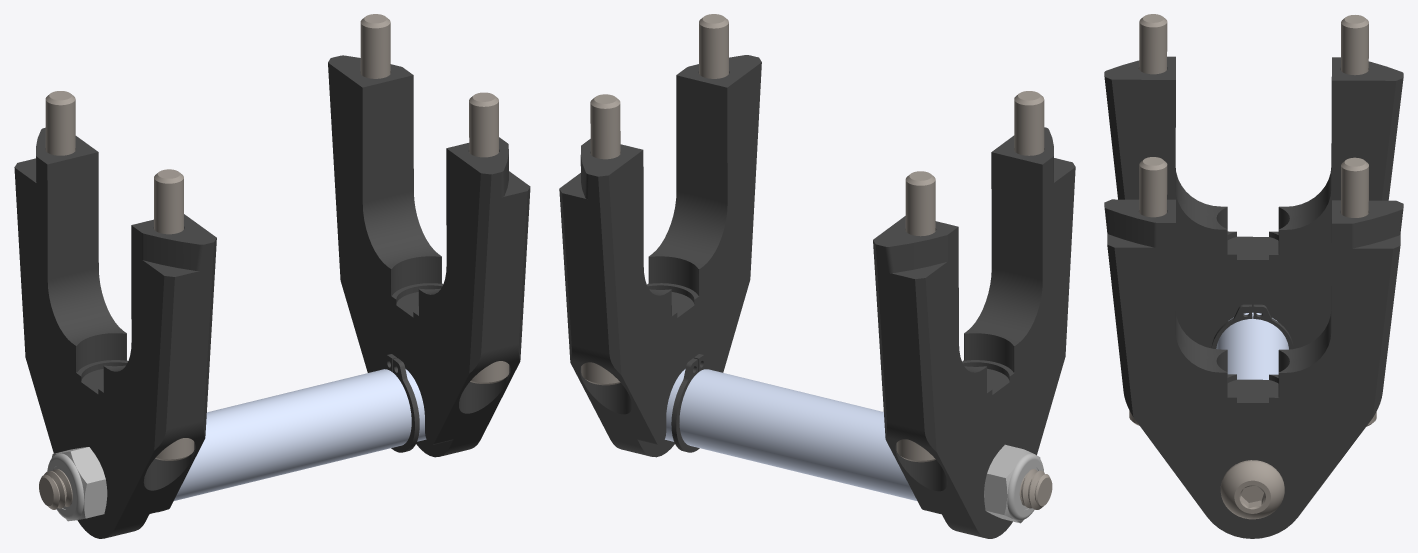
The picture shows the model from 3 angles, left to right: view 1: azimuth 30°, elevation 25°; view 2: azimuth 150°, elevation 25°; view 3: azimuth 270°, elevation 25°; orthographic projection. The views are drawn at different scales.
Visible parts, largest first — view 1: WCP-0366 Rev1_Default<As Machined> (×2), WCP-0364-006 Rev1, NFS-0018_SHCS_#10-32_1_750L_Default<As Machined> (×4), NFS-0024_250-20_thin_locknut_90566A029, WCP-0229 Rev1, 0250-20_3L_BHCS_91255A549; view 2: WCP-0366 Rev1_Default<As Machined> (×2), WCP-0364-006 Rev1, NFS-0018_SHCS_#10-32_1_750L_Default<As Machined> (×4), NFS-0024_250-20_thin_locknut_90566A029, WCP-0229 Rev1, 0250-20_3L_BHCS_91255A549; view 3: WCP-0366 Rev1_Default<As Machined> (×2), NFS-0018_SHCS_#10-32_1_750L_Default<As Machined> (×4), WCP-0364-006 Rev1, 0250-20_3L_BHCS_91255A549, WCP-0229 Rev1.
Part boxes in pixels (x1,y1,x2,y2): WCP-0366 Rev1_Default<As Machined> (×2): (14,55,530,538); WCP-0364-006 Rev1: (174,369,426,500); NFS-0018_SHCS_#10-32_1_750L_Default<As Machined> (×4): (45,14,509,460); NFS-0024_250-20_thin_locknut_90566A029: (47,447,107,521); WCP-0229 Rev1: (376,354,419,452); 0250-20_3L_BHCS_91255A549: (39,469,72,509); WCP-0366 Rev1_Default<As Machined> (×2): (559,55,1075,538); WCP-0364-006 Rev1: (665,369,917,501); NFS-0018_SHCS_#10-32_1_750L_Default<As Machined> (×4): (581,14,1044,462); NFS-0024_250-20_thin_locknut_90566A029: (984,444,1043,523); WCP-0229 Rev1: (671,354,715,452); 0250-20_3L_BHCS_91255A549: (1019,469,1052,509); WCP-0366 Rev1_Default<As Machined> (×2): (1104,56,1403,538); NFS-0018_SHCS_#10-32_1_750L_Default<As Machined> (×4): (1129,14,1376,426); WCP-0364-006 Rev1: (1216,312,1288,379); 0250-20_3L_BHCS_91255A549: (1220,460,1284,519); WCP-0229 Rev1: (1211,304,1293,349).
Size of the model in its own units: 0.0796 by 0.0699 by 0.0518.
